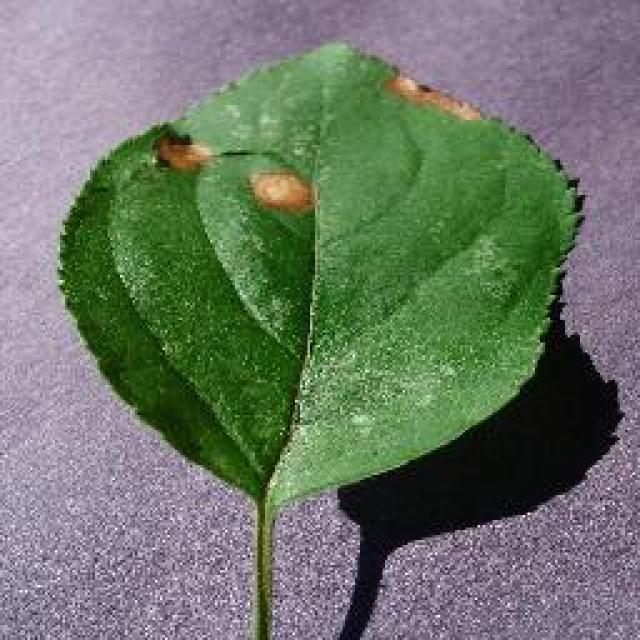black_rot: (382, 61, 497, 131), (248, 153, 326, 218), (152, 128, 226, 177)
